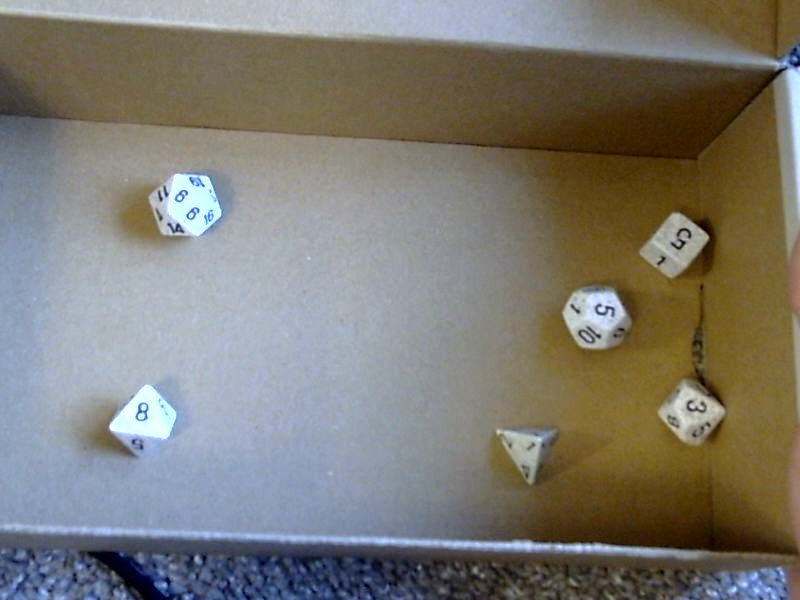d10 3: (653, 374, 728, 451)
d12 5: (557, 282, 636, 353)
d20 9: (143, 167, 225, 249)
d4 1: (492, 421, 561, 489)
d6 5: (630, 199, 709, 287)
d8 8: (103, 381, 181, 459)
